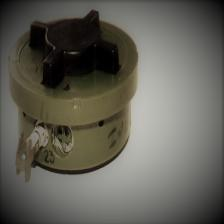PMN2: (8, 13, 145, 182)
